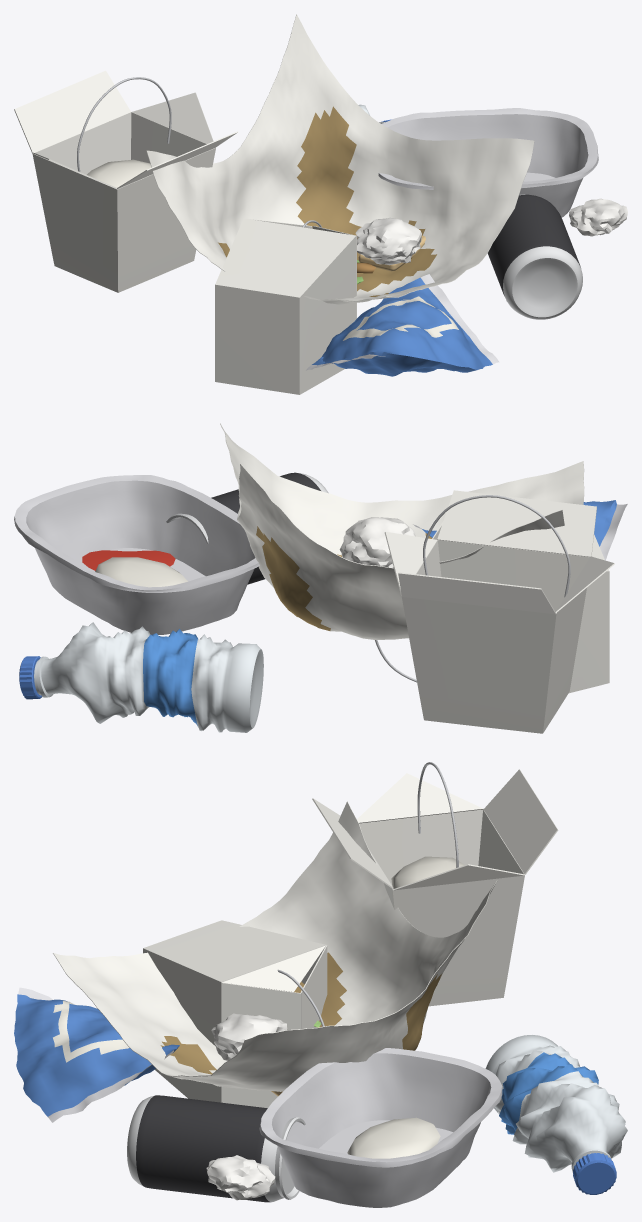
File: kitchen_rubbish_pile_b.fbx
3 renders of one model, top to bottom at view 1: azimuth 30°, elevation 25°; view 2: azimuth 150°, elevation 25°; view 3: azimuth 270°, elevation 25°, orthographic. The views are drawn at different scales.
Parts seen in each view (by area): view 1: kitchen_rubbish_pile_b; view 2: kitchen_rubbish_pile_b; view 3: kitchen_rubbish_pile_b.
Boxes of the visible parts, x1,y1,x2,y2 form: kitchen_rubbish_pile_b: (14,14,627,394); kitchen_rubbish_pile_b: (14,423,627,733); kitchen_rubbish_pile_b: (14,762,627,1207).
Bounding box in the file's own units: 0.4905 × 0.2193 × 0.4324.
